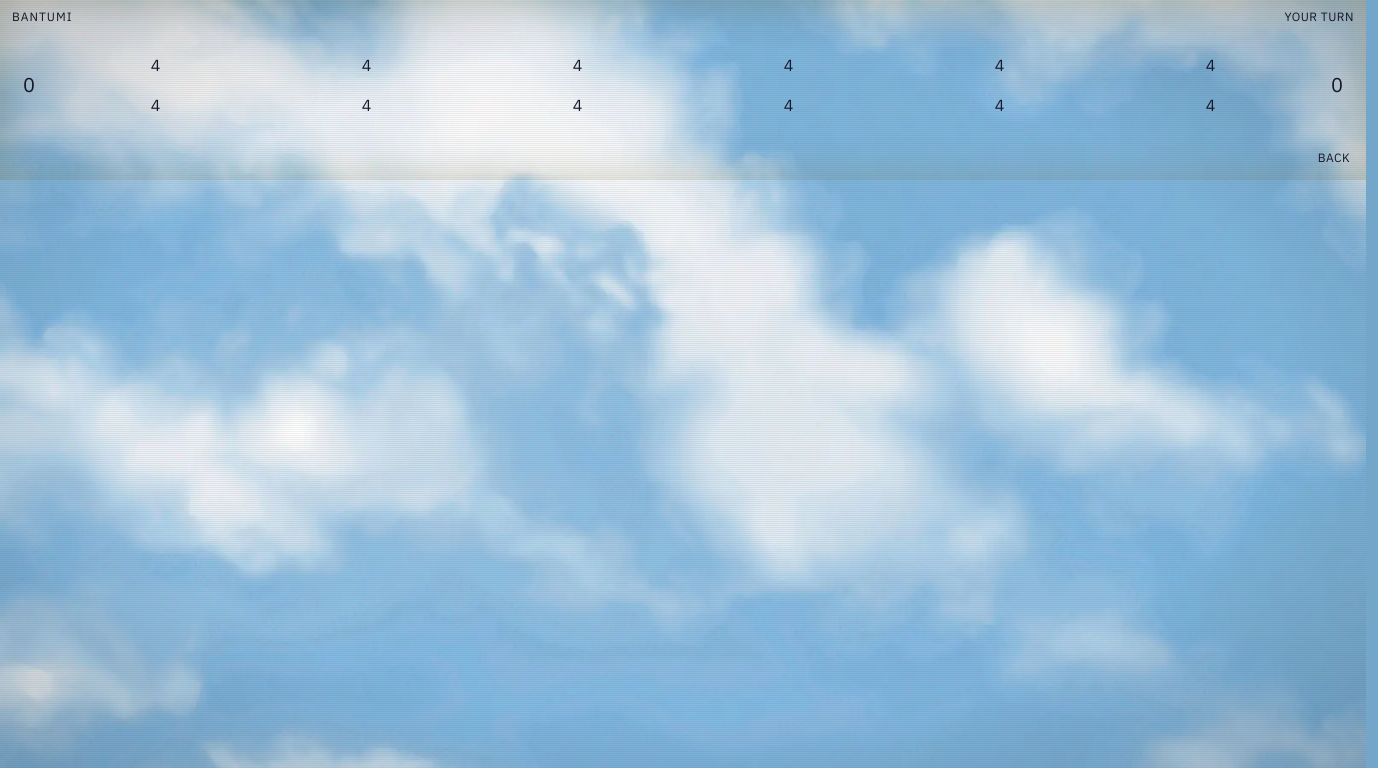
Bantumi › keeps the turn with the player when a move lands in their own store
Click the button named "Pit 3: 4 stones".
click(578, 105)  # box [474,88,681,122]
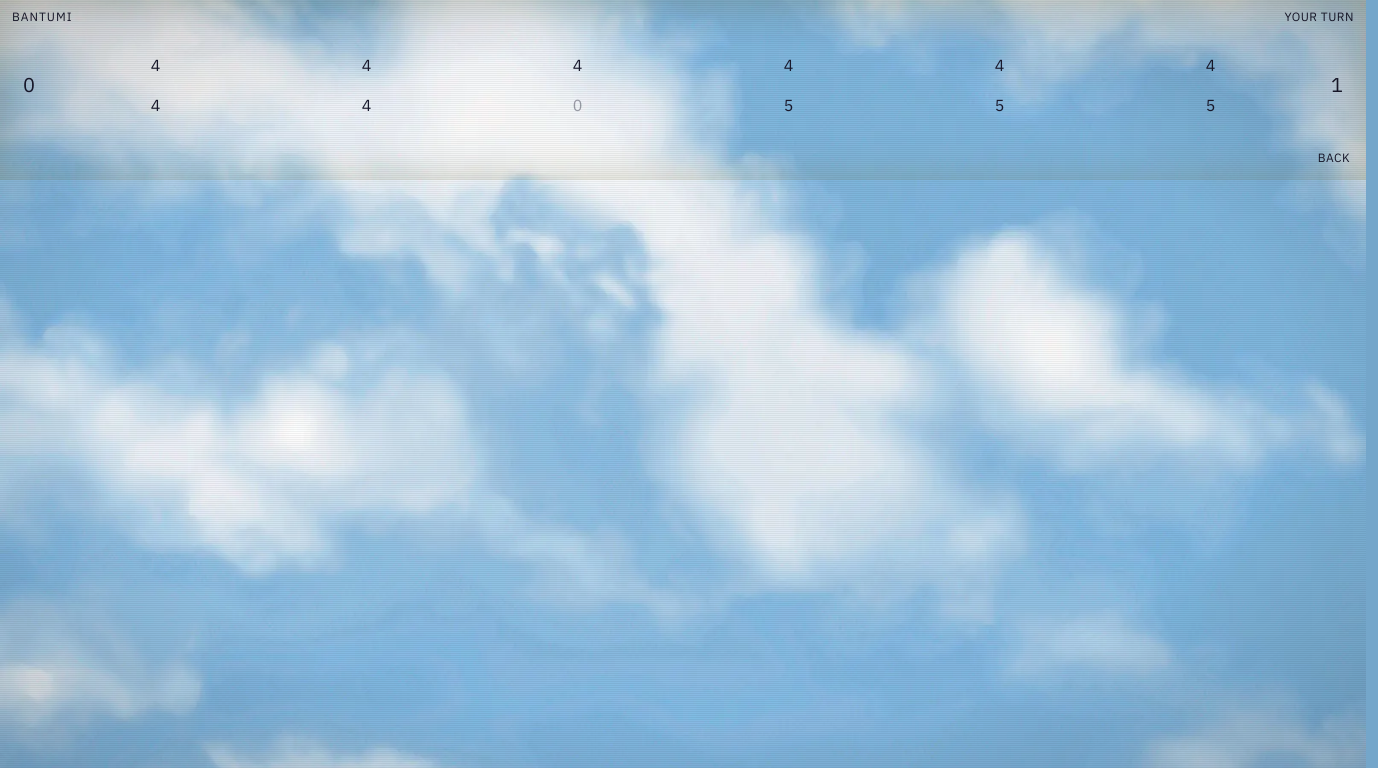
Expected: the text "Your turn" is shown, [1284,11,1354,23]
Expected: the button named "Pit 4: 5 stones" is shown, [685,88,892,122]
